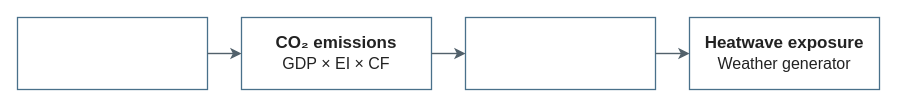
Image size: 898x108. Some labels were removed from this diagram. Here are the shapes that lost their labels. From the top down, the centre of each, then its label:
the point at 112,53: Policy pathways NPI · NPR · NPLS
the point at 560,53: Regional Tmax FaIR + pattern scaling
